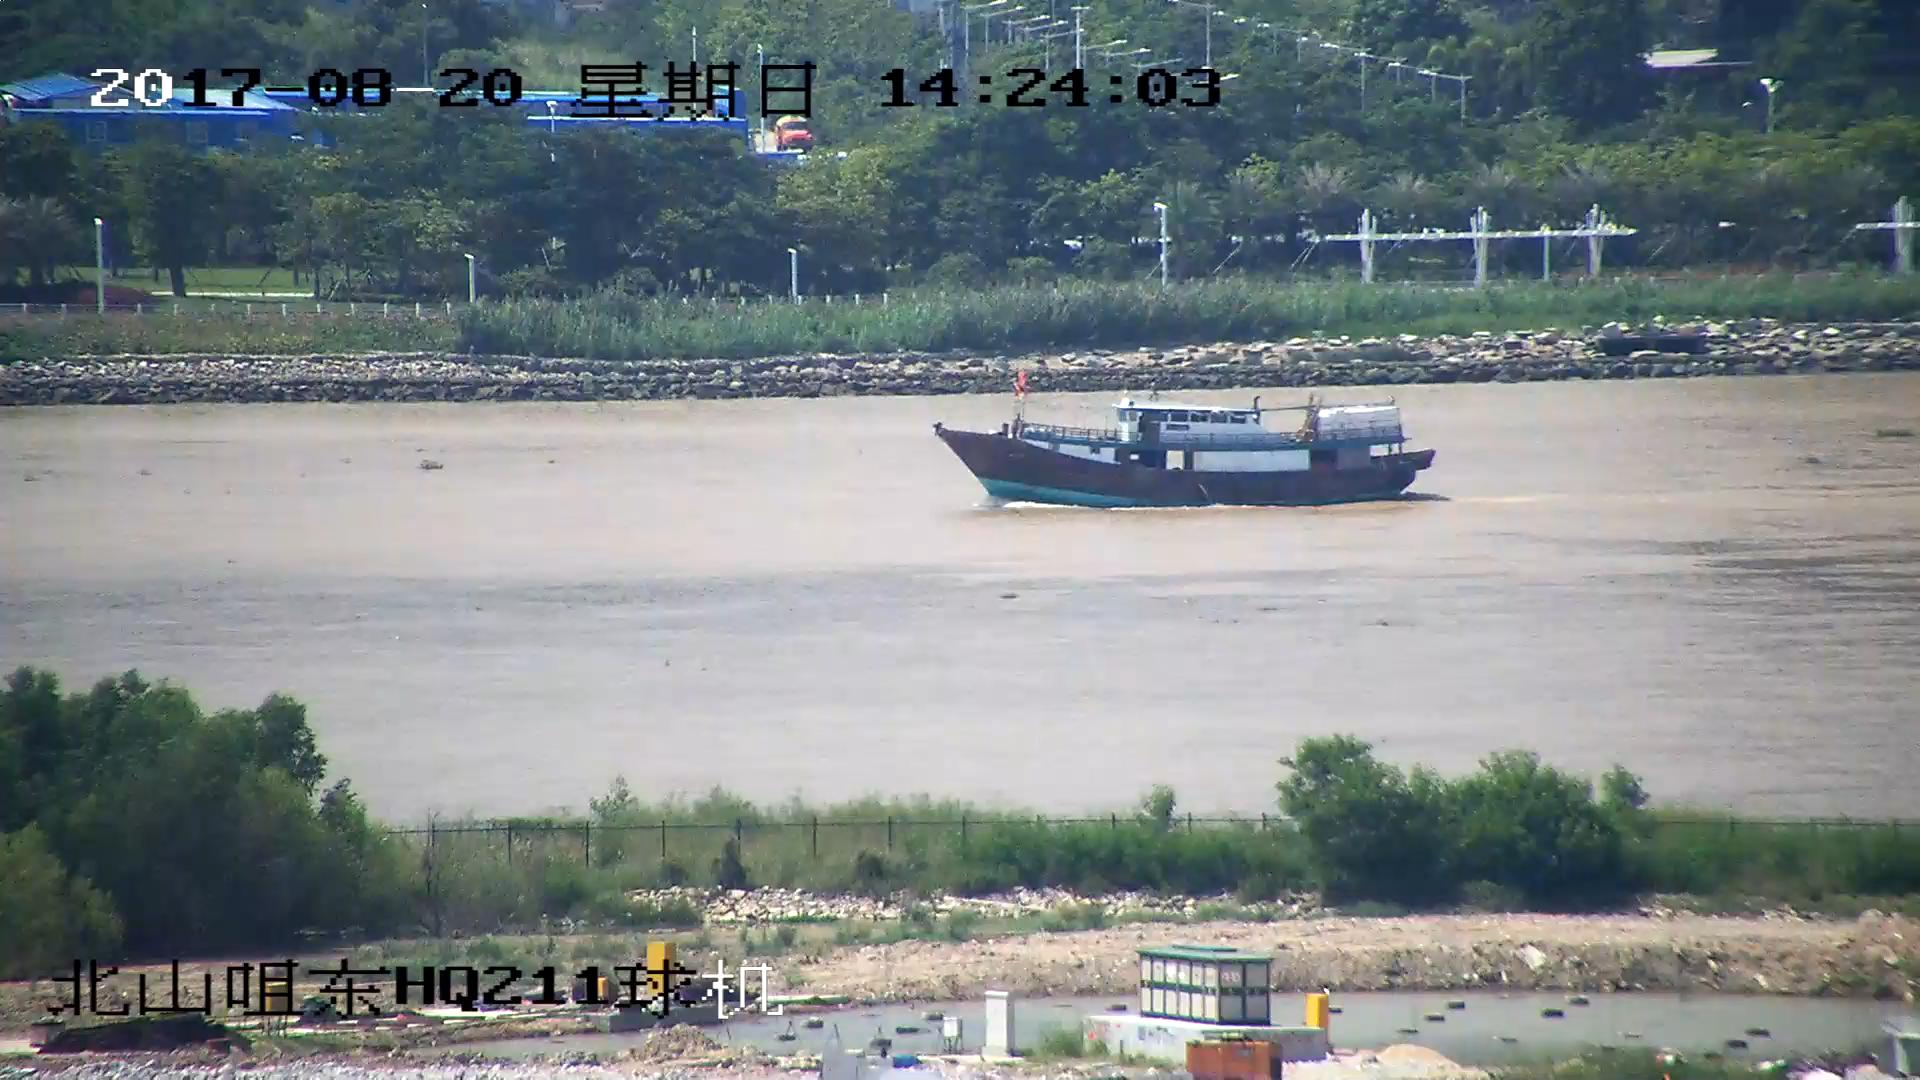fishing boat: (932, 388, 1438, 512)
